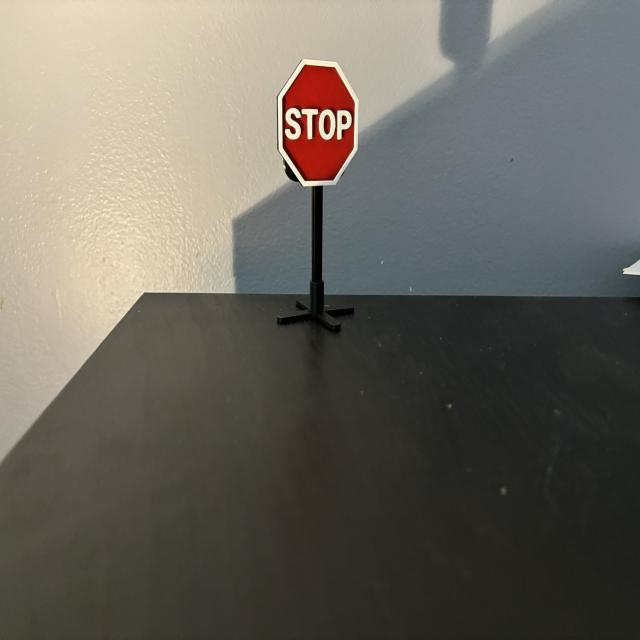sign_stop: (278, 61, 359, 185)
